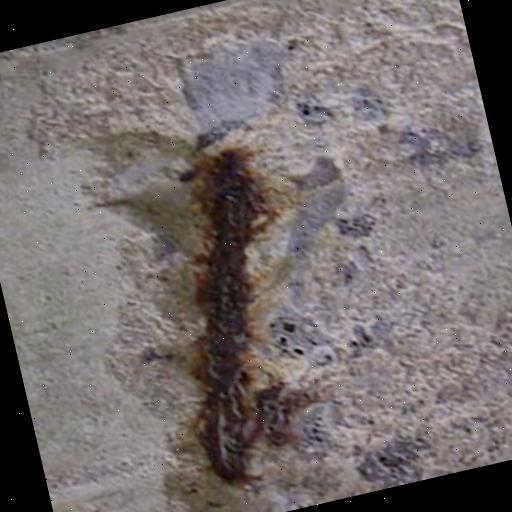spalling: (89, 83, 390, 512)
